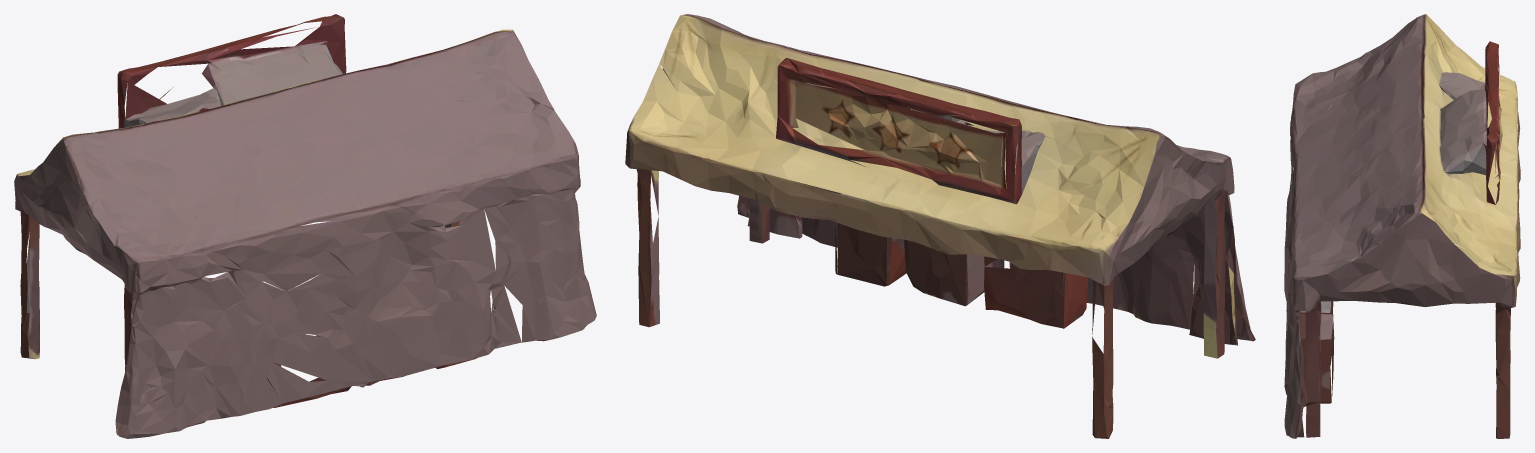
File: quarter.glb
3 views of the same model, side by side, from view 1: azimuth 30°, elevation 25°; view 2: azimuth 150°, elevation 25°; view 3: azimuth 270°, elevation 25° (orthographic). The views are drawn at different scales.
Parts seen in each view (by area): view 1: geometry_0; view 2: geometry_0; view 3: geometry_0.
Boxes of the visible parts, left/top/right/bottom form: geometry_0: left=14, top=14, right=596, bottom=438; geometry_0: left=625, top=14, right=1255, bottom=438; geometry_0: left=1284, top=14, right=1520, bottom=438.
Bounding box in the file's own units: 3 × 1.65 × 1.4.
1 material, 1 textured.
